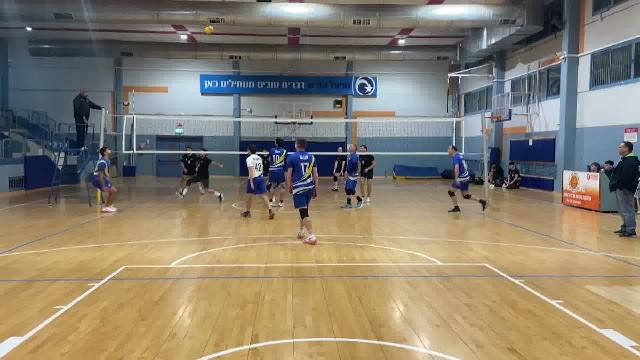ball: (203, 25, 215, 37)
